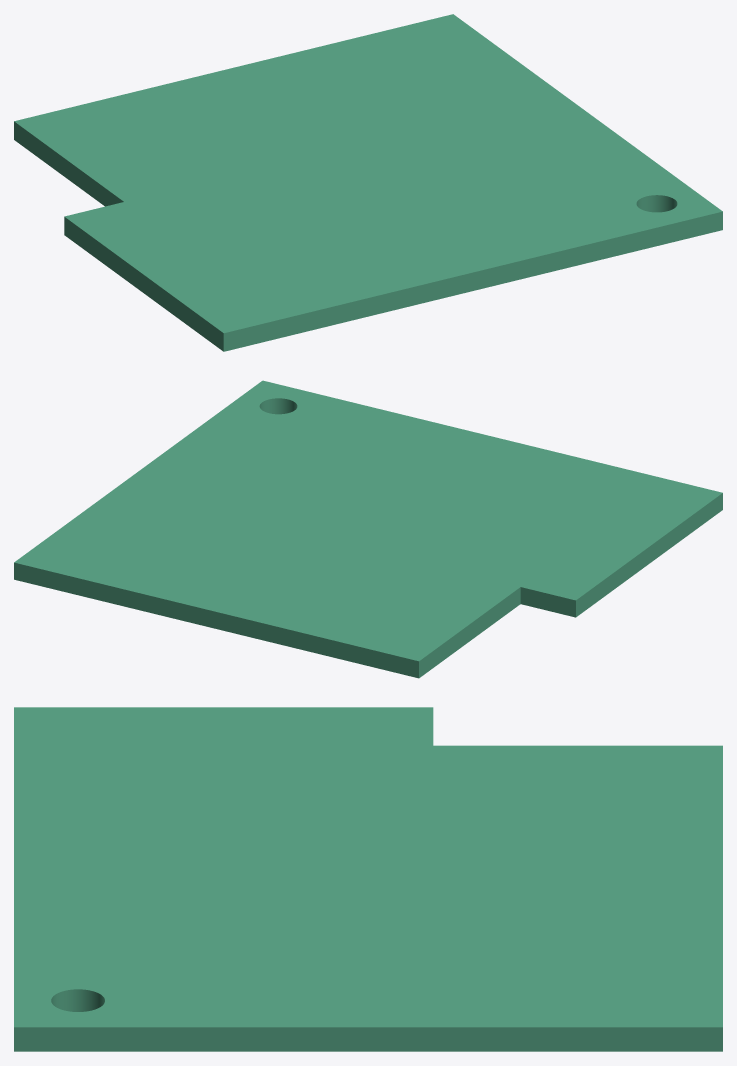
The model's file is board.glb.
3 views of the same model, one above another, from view 1: azimuth 30°, elevation 25°; view 2: azimuth 150°, elevation 25°; view 3: azimuth 270°, elevation 25° (orthographic). The views are drawn at different scales.
Visible parts, largest first — view 1: =>[0:1:1:4]; view 2: =>[0:1:1:4]; view 3: =>[0:1:1:4].
Boxes of the visible parts, <box> form: =>[0:1:1:4]: <box>14,14,722,351</box>; =>[0:1:1:4]: <box>14,380,722,678</box>; =>[0:1:1:4]: <box>14,707,722,1051</box>.
Size of the model in its own units: 0.045 by 0.0016 by 0.0421.
